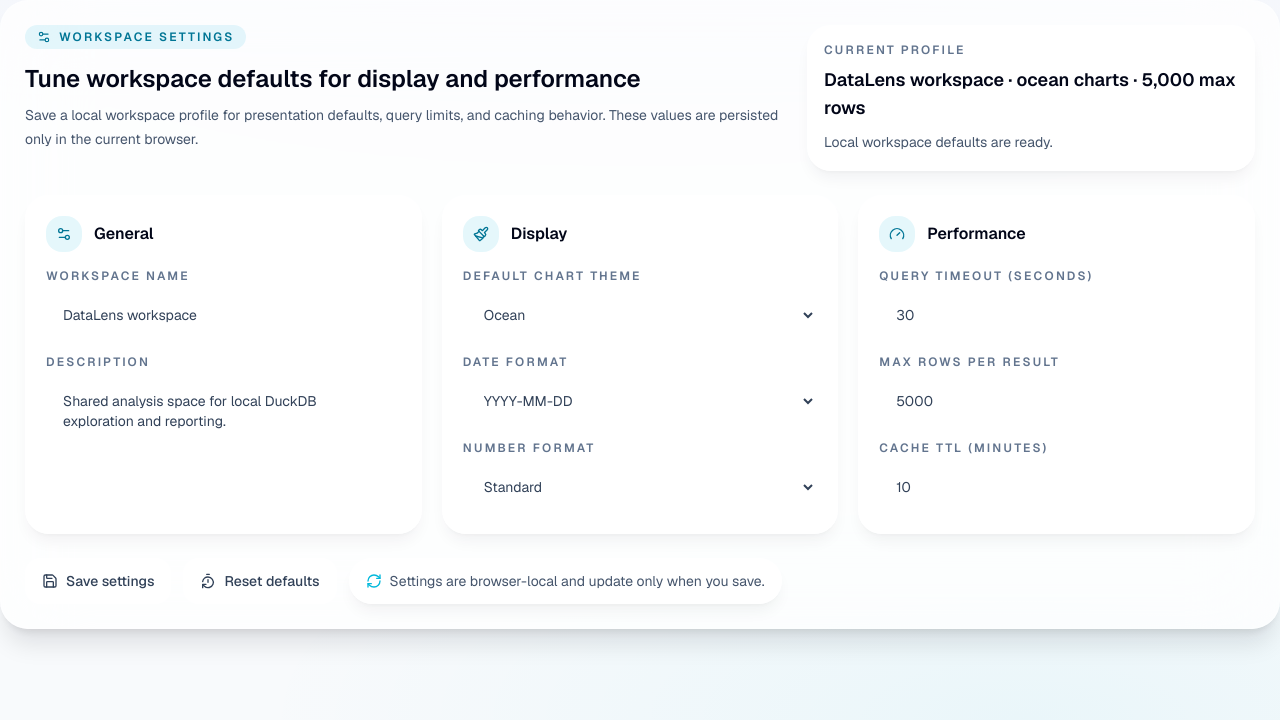
Test: WorkspaceSettings › saves updated workspace settings to localStorage
The image size is (1280, 720).
Clear the field labelled "Workspace name": (223, 315) [46,292,401,338]
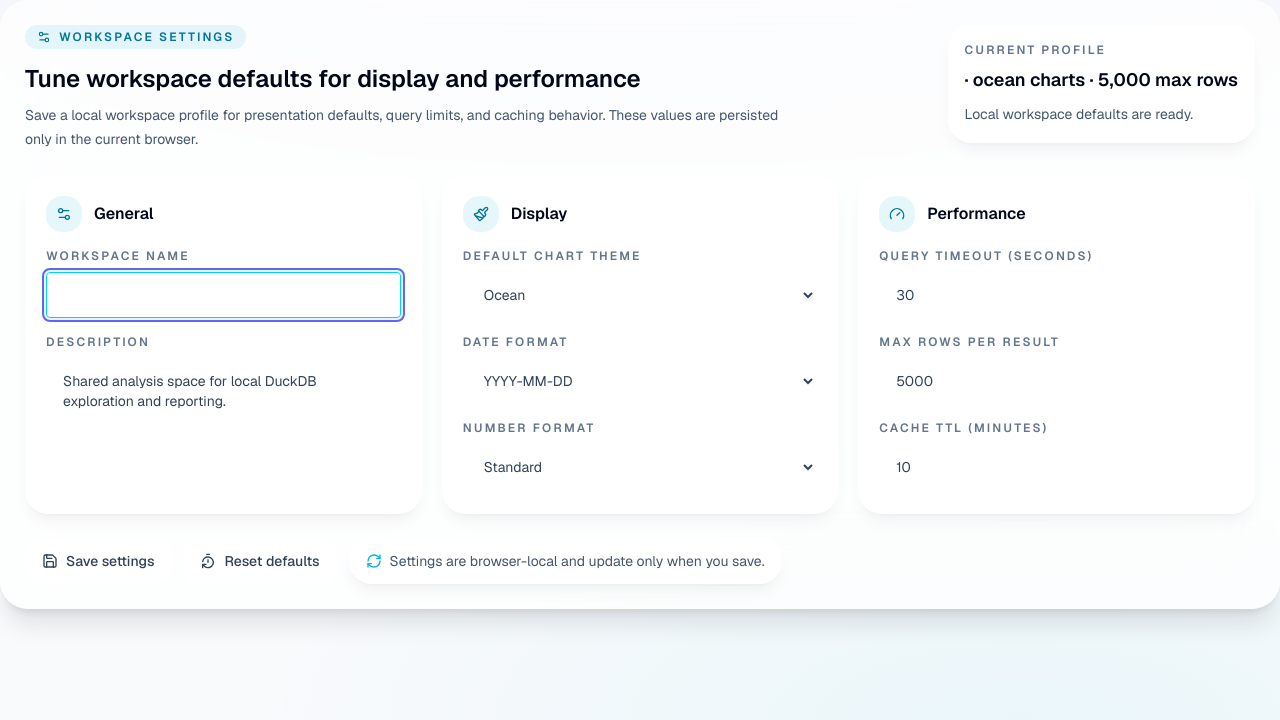
In the field labelled "Workspace name": (223, 295) [46,272,401,318], type "Ops Lab"
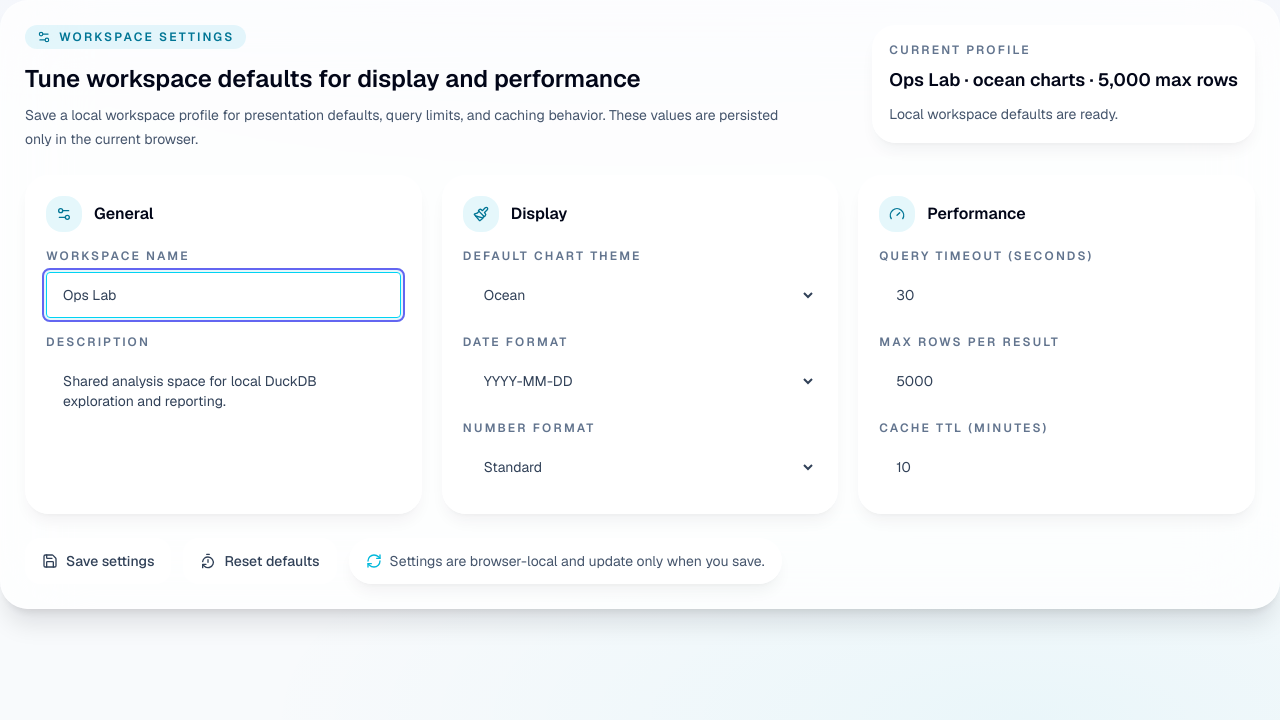
Select "Forest" in the dropdown labelled "Default chart theme": (640, 295) [463,272,817,318]
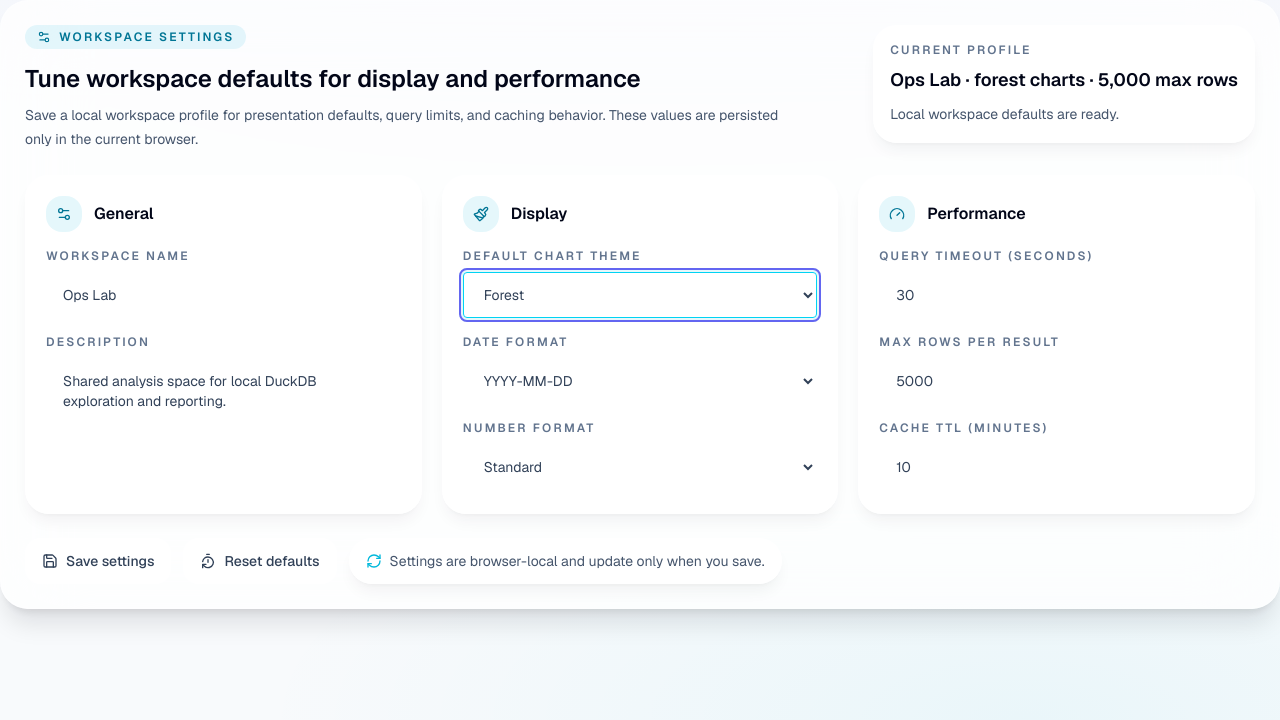
Replace the text in the number field labelled "Max rows per result" with "12000": (1057, 381) [879,358,1234,404]
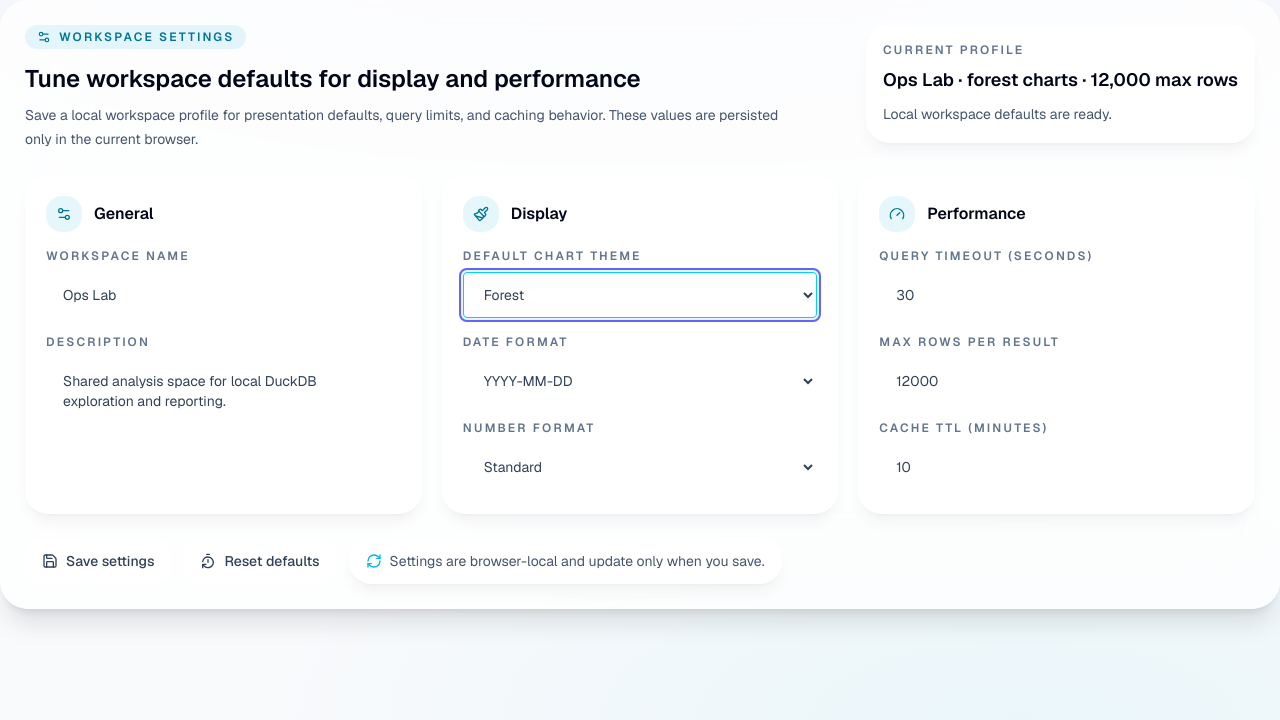
Click the button "Save settings": (98, 561) [25,538,172,584]
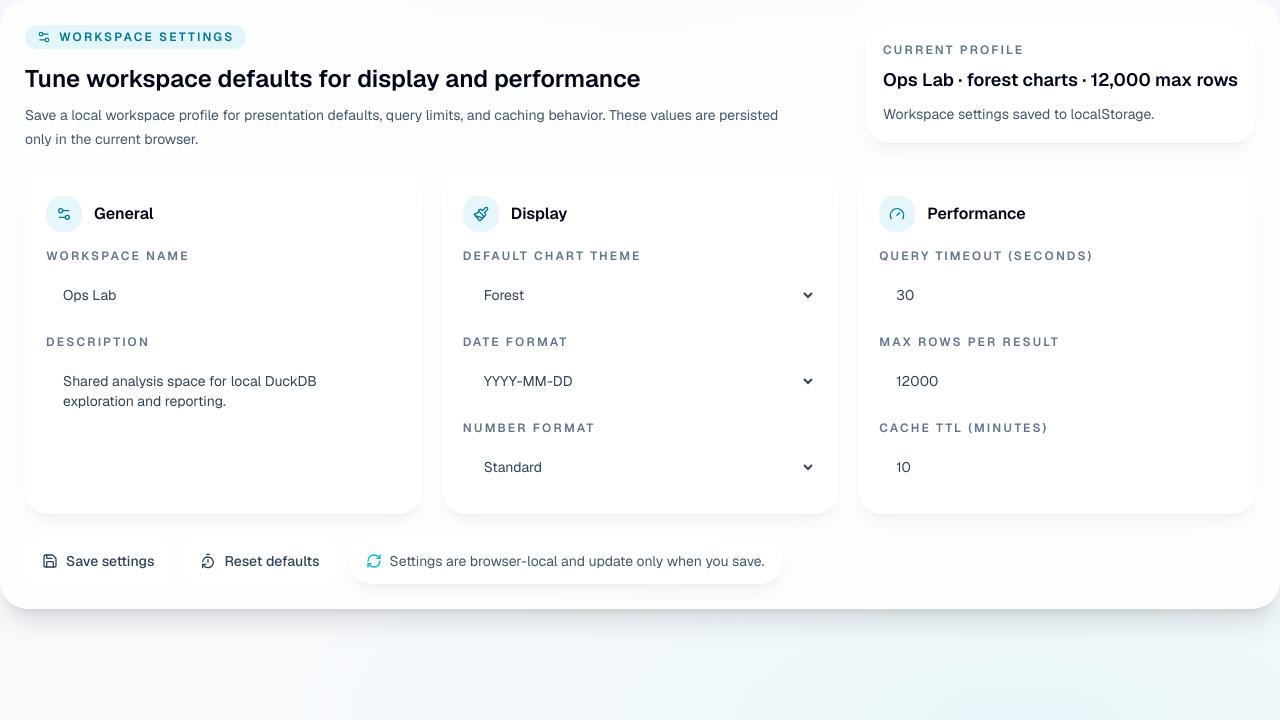
Expected: the text "Ops Lab · forest charts · 12,000 max rows" is shown, [883,66,1238,94]
Expected: the text "Workspace settings saved to localStorage." is shown, [883,105,1154,123]
